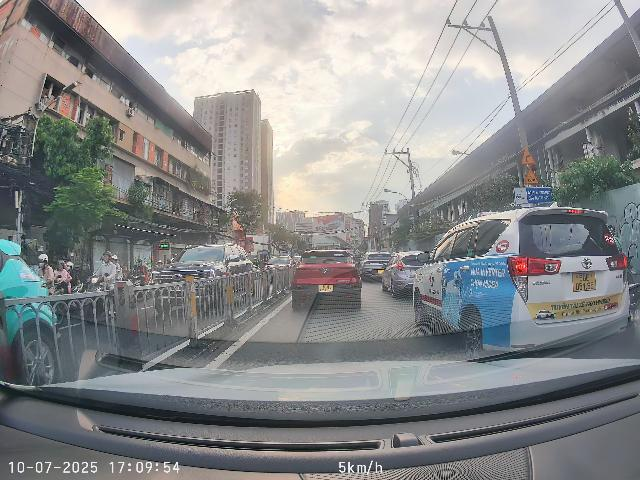201-cho-ngoat-nguy-hiem: (522, 147, 536, 164)
245-di-cham: (524, 166, 540, 185)
